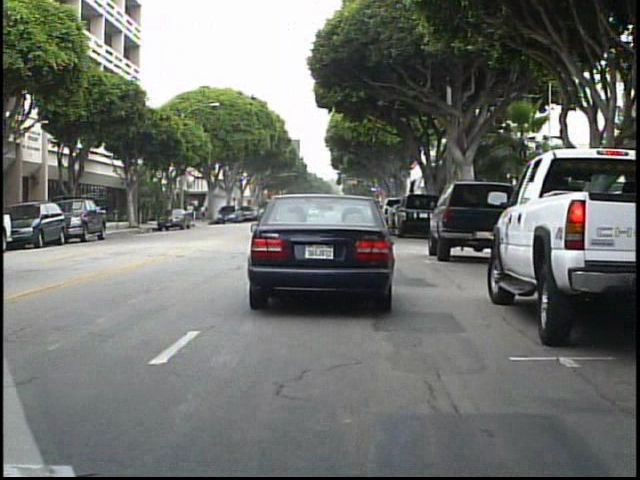person: (185, 202, 197, 227), (198, 201, 210, 226)
